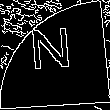N_S: (32, 28, 78, 82)
